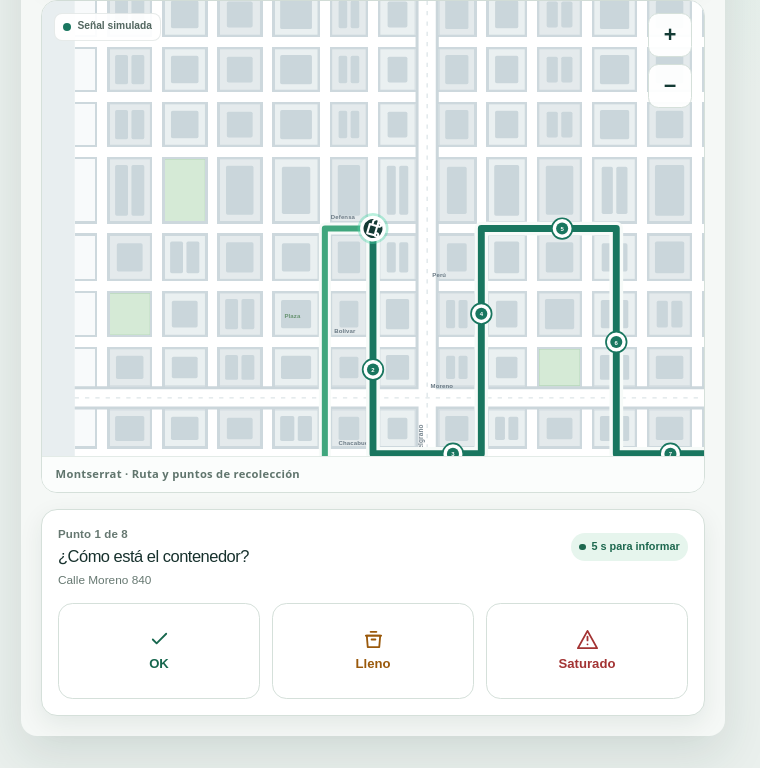
lets the driver report and undo a container status
The image size is (760, 768).
(page scrolled)
Click the button "Saturado": {"x": 587, "y": 651} [486, 603, 688, 699]
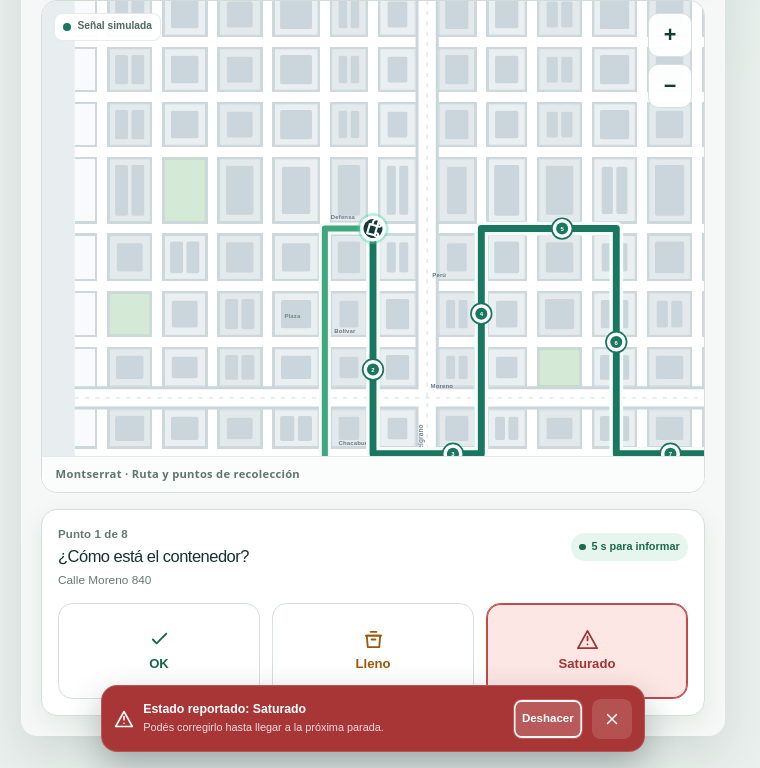
Expected: the message shows "Estado reportado: Saturado", [101, 685, 645, 752]
Click the button with aria-label "Deshacer reporte de contenedor saturado": {"x": 548, "y": 718} [513, 698, 583, 738]
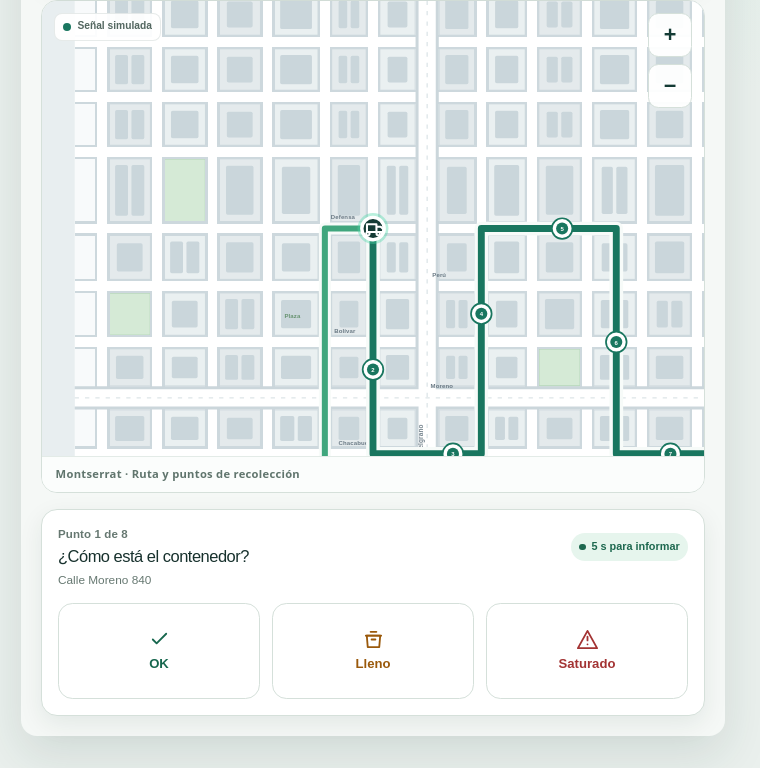
Expected: the button "OK" is enabled, [58, 603, 260, 699]
Expected: the text "Estado reportado: Saturado" is gone
